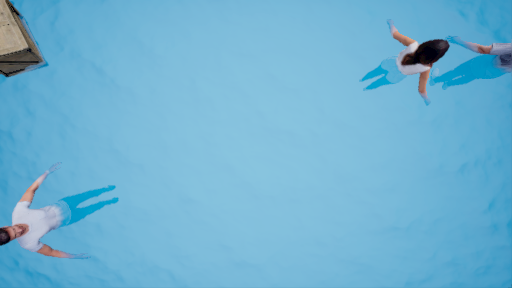person: (2, 165, 116, 260), (371, 24, 451, 113)
